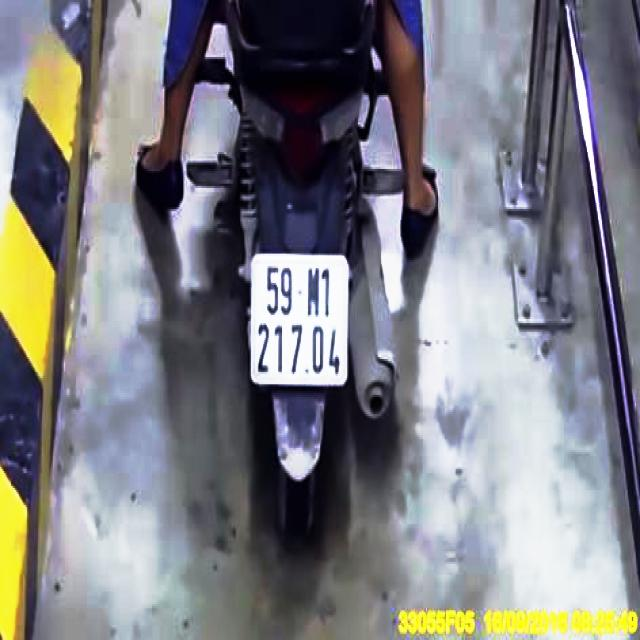license_plate: (254, 258, 352, 380)
